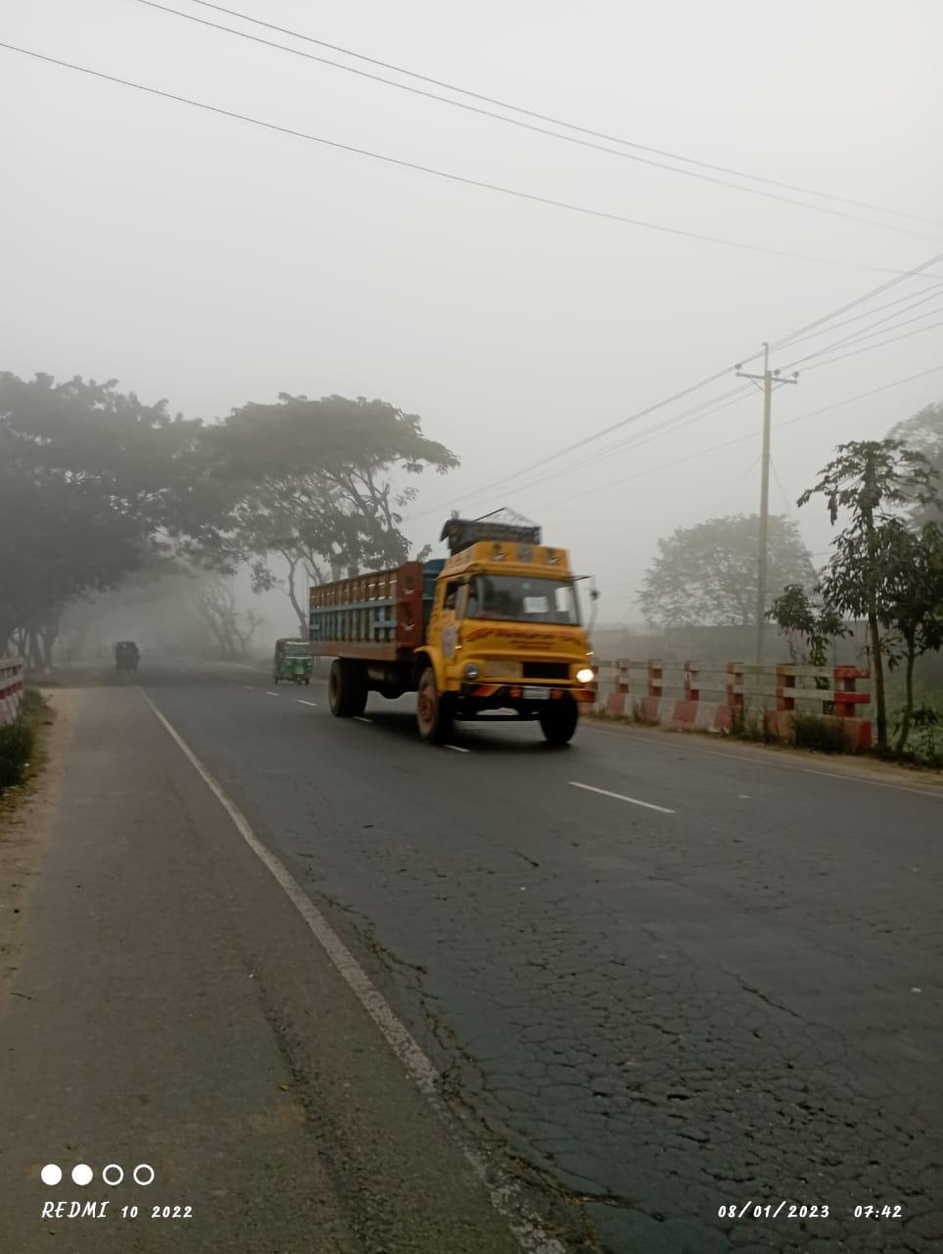Car: (106, 637, 146, 677)
Truck: (283, 508, 611, 759)
